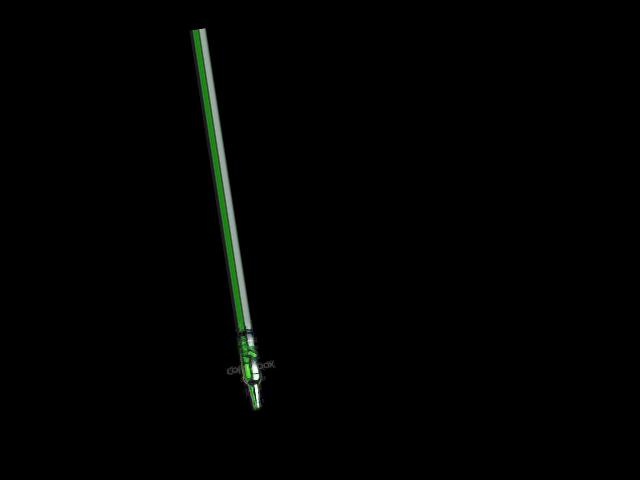beer: (237, 339, 264, 409)
